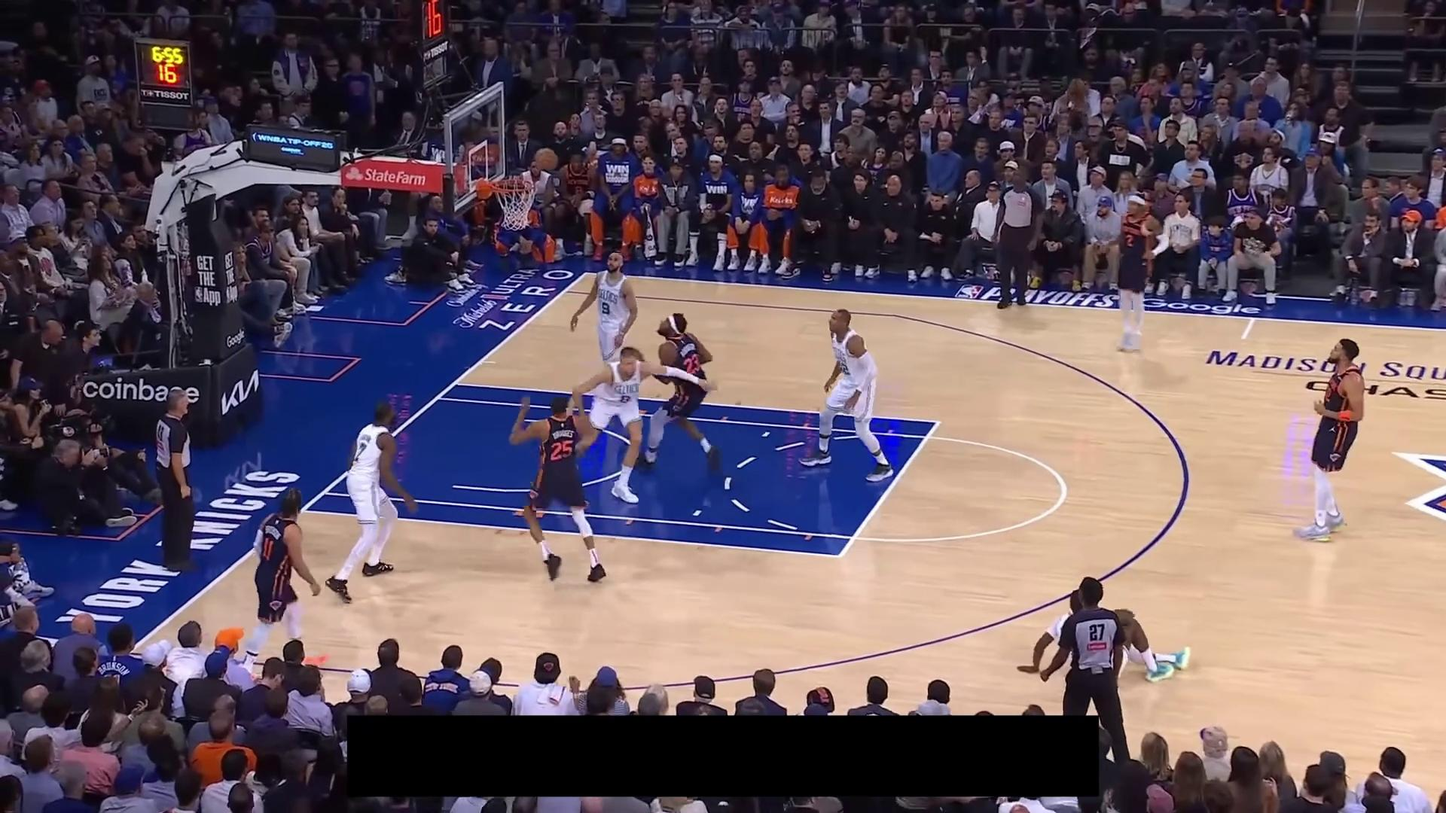ball: (535, 148, 557, 170)
number: (550, 440, 574, 461), (261, 536, 275, 562), (685, 353, 701, 375), (354, 442, 368, 463), (599, 300, 612, 316), (1125, 233, 1134, 248), (619, 394, 631, 404)
player: (572, 347, 718, 504), (325, 398, 420, 605), (509, 395, 607, 583), (795, 306, 897, 484), (238, 485, 331, 679), (1016, 589, 1191, 683), (1292, 336, 1368, 543), (635, 313, 722, 475), (1101, 191, 1167, 354), (570, 252, 638, 363)
referee: (1040, 575, 1131, 765), (154, 388, 200, 571), (990, 162, 1045, 309)
rim: (491, 178, 535, 191)
